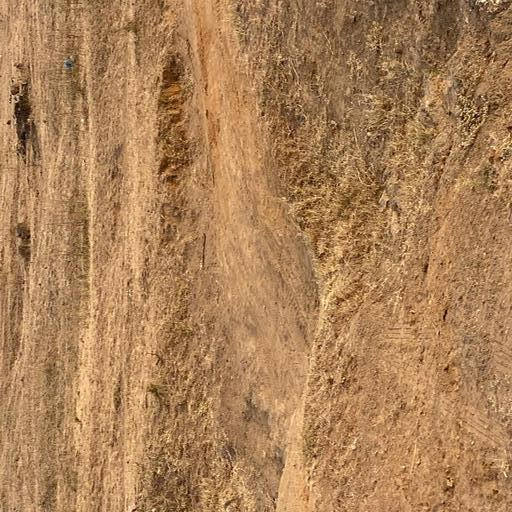vehicle_track: (187, 0, 319, 421)
